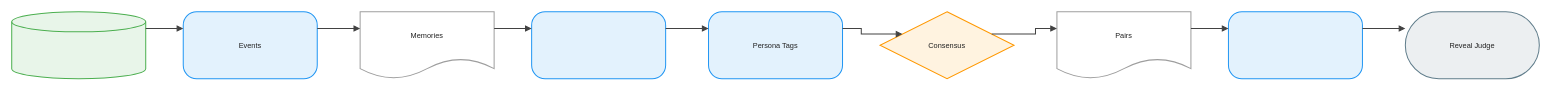
Image size: 1552x91. Some labels were removed from this diagram. Here are the shapes that lost their labels. From the top down, the centre of each, then its label:
At [78,45]: "Identity".
At [598,45]: "49 Contexts".
At [1295,45]: "Model Runs".
